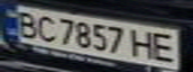5: (90, 21, 109, 53)
7: (106, 24, 130, 56), (54, 16, 78, 47)
8: (72, 19, 93, 49)
B: (12, 8, 42, 38)
C: (33, 12, 60, 43)
E: (148, 30, 181, 63)
H: (127, 27, 160, 61)
